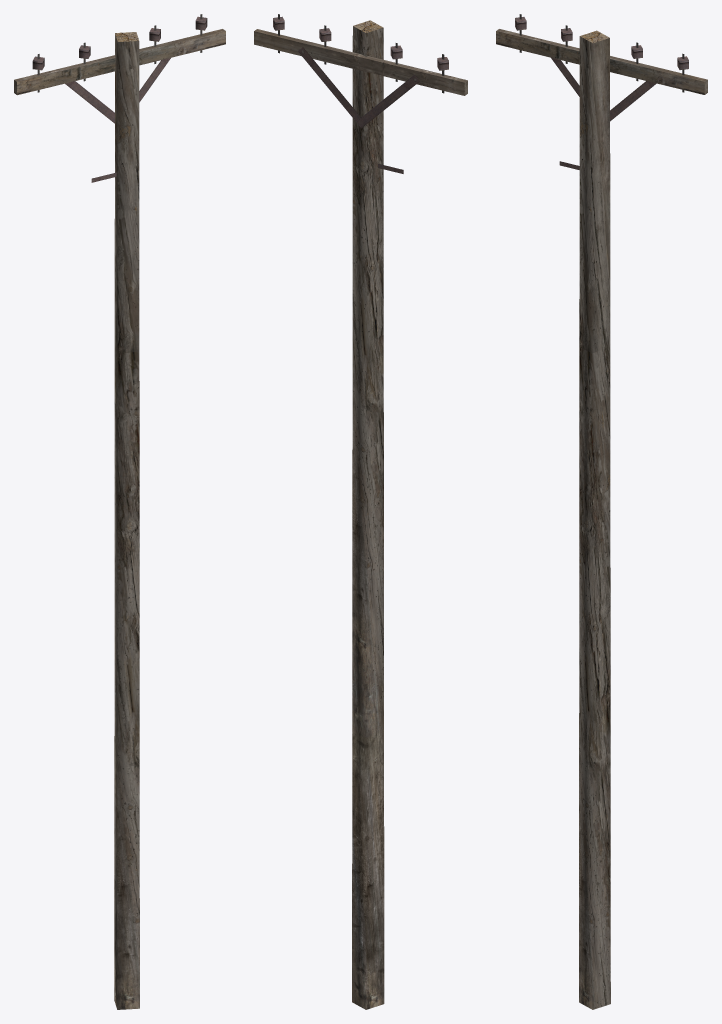
File: Powerpole_LOD1.fbx
The picture shows the model from 3 angles, left to right: view 1: azimuth 30°, elevation 25°; view 2: azimuth 150°, elevation 25°; view 3: azimuth 330°, elevation 25°; orthographic projection.
Parts seen in each view (by area): view 1: polySurface410; view 2: polySurface410; view 3: polySurface410.
Part boxes in pixels (x1,y1,x2,y2): polySurface410: (14,14,225,1009); polySurface410: (254,14,467,1009); polySurface410: (496,14,707,1009).
Bounding box in the file's own units: 2.26 × 10 × 0.3409.
